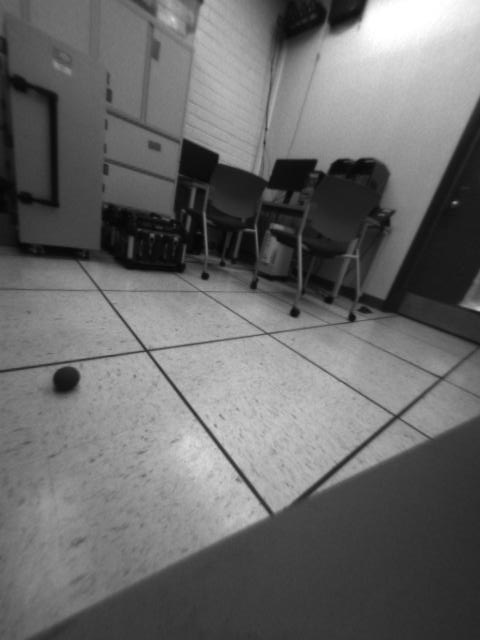dogtoy: (48, 361, 88, 400)
